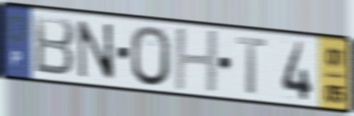4: (279, 39, 315, 104)
B: (32, 13, 77, 79)
H: (173, 27, 221, 94)
N: (75, 18, 118, 83)
O: (129, 24, 172, 89)
T: (235, 36, 269, 97)
